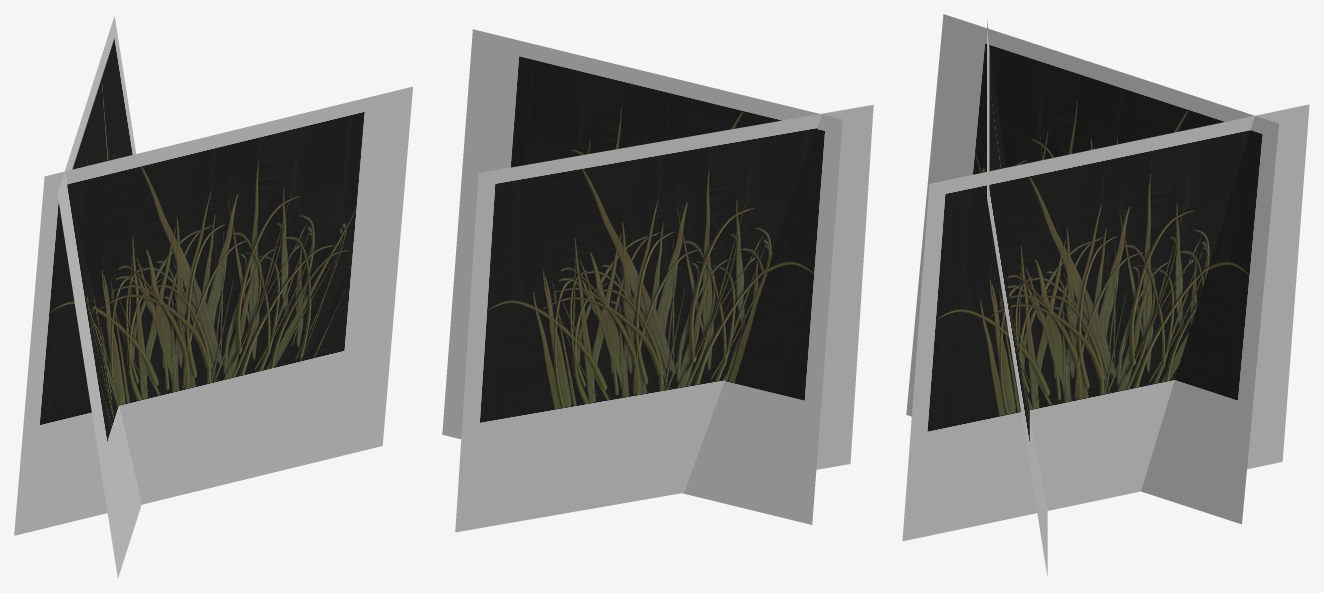
The model's file is Grass_Blender2.fbx.
3 renders of one model, left to right at view 1: azimuth 30°, elevation 25°; view 2: azimuth 150°, elevation 25°; view 3: azimuth 270°, elevation 25°, orthographic.
Parts seen in each view (by area): view 1: Grass_Blender2; view 2: Grass_Blender2; view 3: Grass_Blender2.
Part boxes in pixels (x1,y1,x2,y2): Grass_Blender2: (14, 16, 412, 577); Grass_Blender2: (442, 29, 873, 532); Grass_Blender2: (902, 14, 1309, 576).
Bounding box in the file's own units: 102 × 99.19 × 95.97.
Materials: 1 (1 with a texture image).
